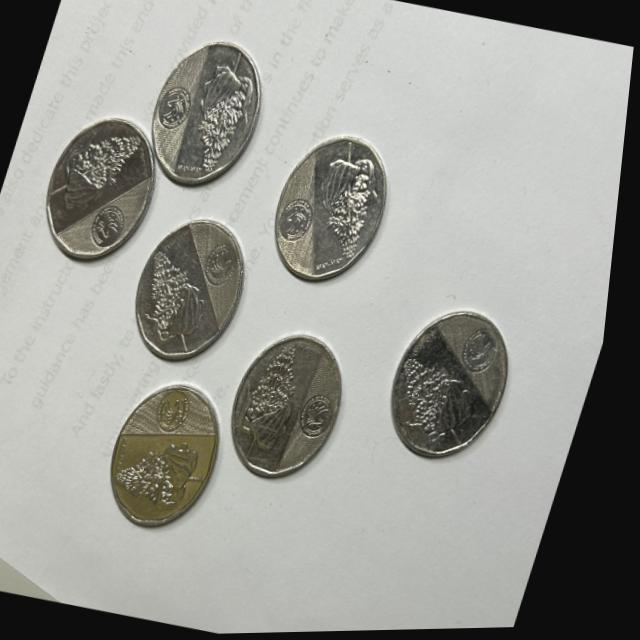10_New_Back: (393, 350, 499, 455), (229, 337, 318, 461), (186, 51, 263, 183), (54, 118, 147, 226), (118, 422, 220, 518), (317, 146, 397, 263), (136, 240, 224, 346)
